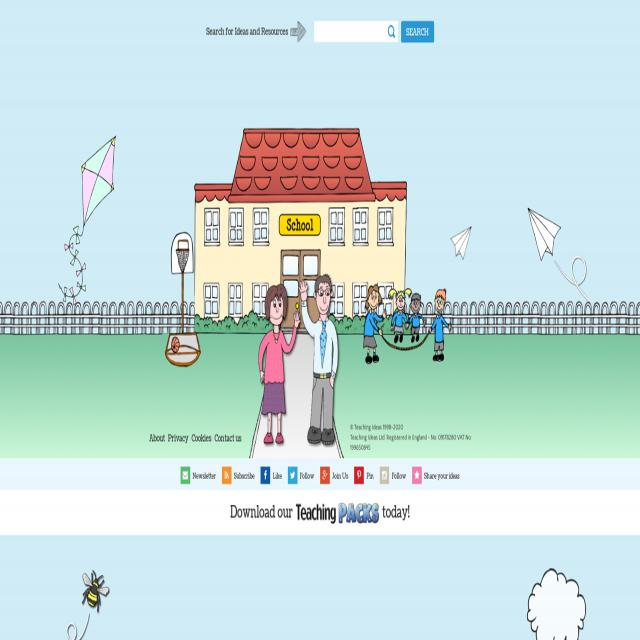button: (295, 502, 380, 524), (412, 466, 460, 484), (401, 21, 434, 43), (180, 466, 216, 484), (222, 466, 254, 484), (320, 466, 348, 484), (288, 466, 314, 484), (380, 466, 406, 484), (260, 466, 282, 484), (354, 466, 374, 484), (386, 25, 397, 41)
field: (314, 22, 398, 42)
